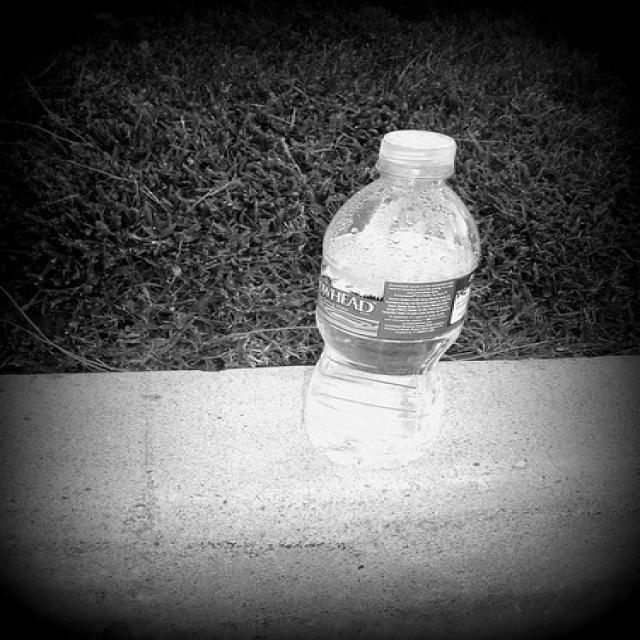plastic_bottle: (303, 130, 481, 470)
